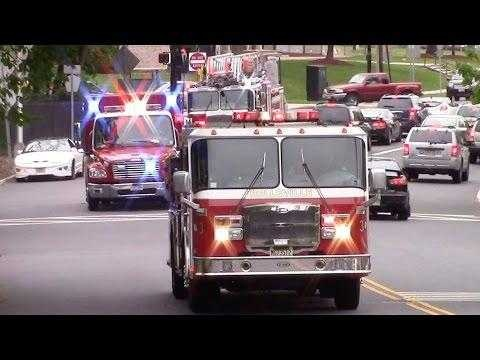Fire Truck: (160, 100, 372, 320), (63, 84, 176, 216), (177, 57, 257, 133)
